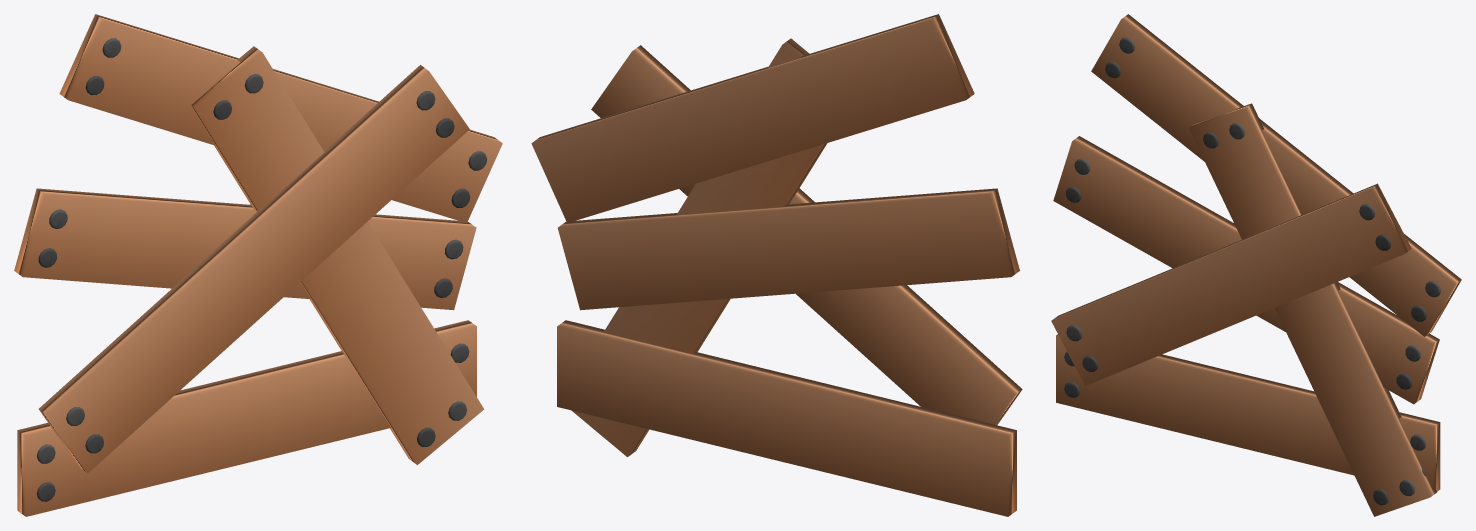
Rendered from locked_gate.fbx.
The picture shows the model from 3 angles, left to right: view 1: azimuth 30°, elevation 25°; view 2: azimuth 150°, elevation 25°; view 3: azimuth 330°, elevation 25°; orthographic projection. The views are drawn at different scales.
Visible parts, largest first — view 1: Cube.004, Cube.002, Cube.003, Cube.005, Cube.001; view 2: Cube.003, Cube.005, Cube.001, Cube.004, Cube.002; view 3: Cube.004, Cube.002, Cube.003, Cube.005, Cube.001.
Part boxes in pixels (bbox=[...]): Cube.004: bbox=[38, 65, 469, 472]; Cube.002: bbox=[190, 46, 484, 464]; Cube.003: bbox=[17, 320, 476, 516]; Cube.005: bbox=[14, 188, 476, 310]; Cube.001: bbox=[59, 14, 502, 223]; Cube.003: bbox=[557, 320, 1016, 516]; Cube.005: bbox=[557, 188, 1019, 310]; Cube.001: bbox=[531, 14, 974, 222]; Cube.004: bbox=[591, 45, 1022, 425]; Cube.002: bbox=[571, 38, 827, 456]; Cube.004: bbox=[1051, 183, 1411, 385]; Cube.002: bbox=[1189, 103, 1436, 516]; Cube.003: bbox=[1056, 334, 1440, 491]; Cube.005: bbox=[1053, 136, 1439, 404]; Cube.001: bbox=[1091, 14, 1461, 336].
Size of the model in its own units: 97.98 by 101 by 8.42.
